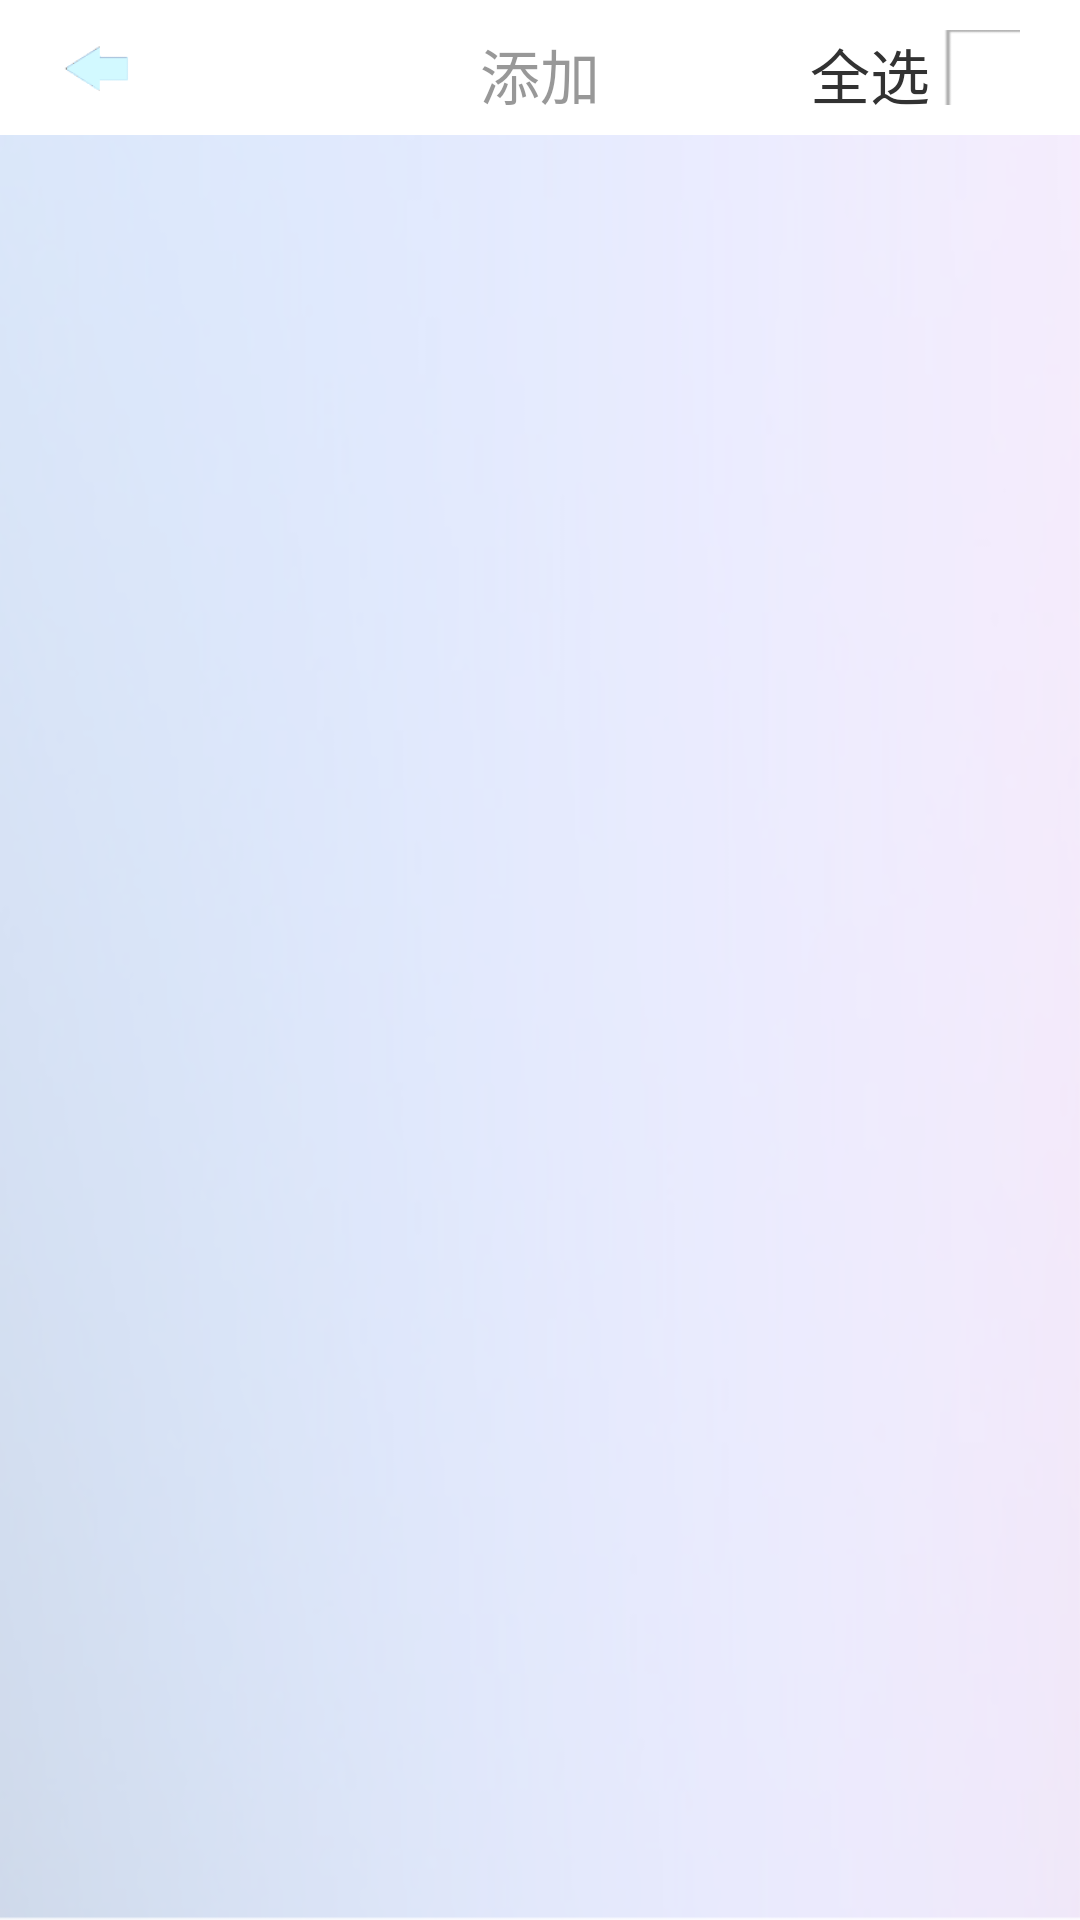

Named icons in this screenshot (1080x1920) and their centers, (x=x, y=y):
back: (x=96, y=68)
